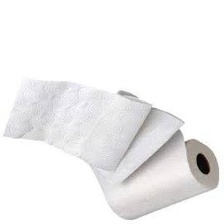tissue: (79, 85, 224, 223), (0, 73, 156, 177)
